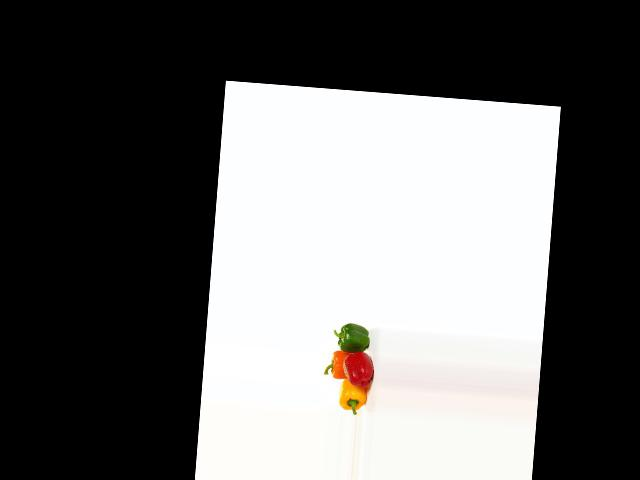bell_pepper: (334, 322, 375, 356)
